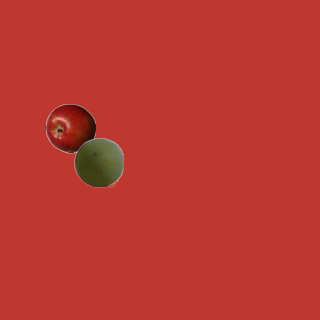Apple Braeburn: (45, 103, 95, 153)
Grape White 4: (73, 137, 123, 187)
